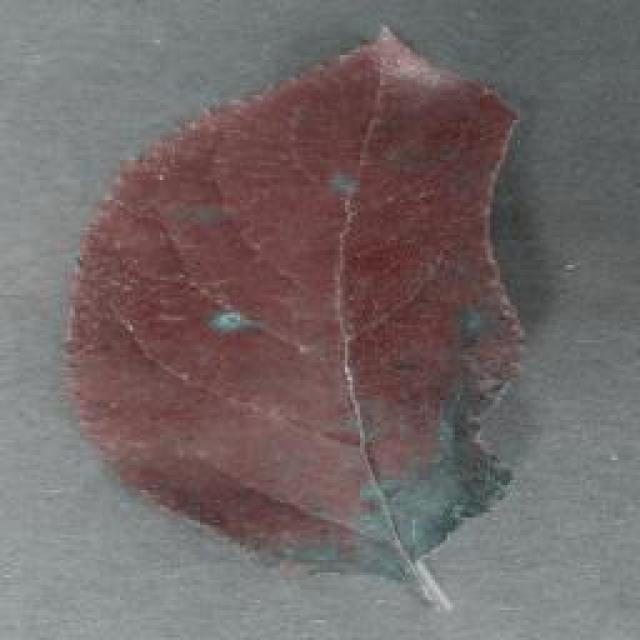apple rust disease: (60, 23, 525, 585)
